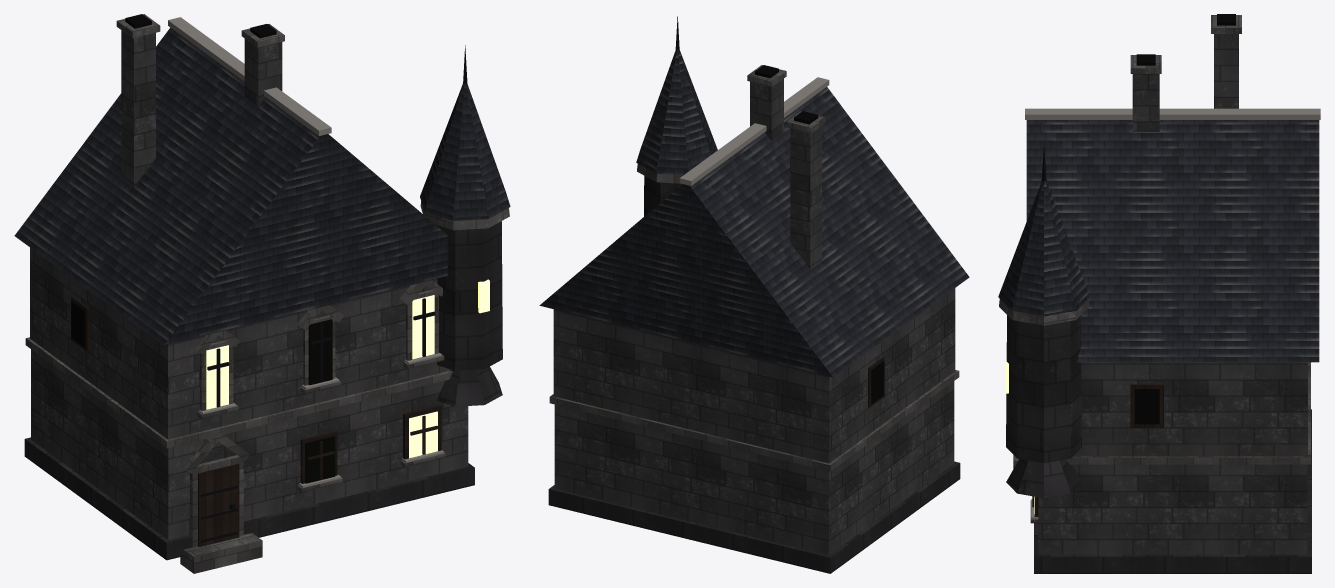
Rendered from CasaB07.gltf.
The picture shows the model from 3 angles, left to right: view 1: azimuth 30°, elevation 25°; view 2: azimuth 150°, elevation 25°; view 3: azimuth 270°, elevation 25°; orthographic projection. The views are drawn at different scales.
Visible parts, largest first — view 1: CasaB07; view 2: CasaB07; view 3: CasaB07.
Boxes of the visible parts, x1,y1,x2,y2 form: CasaB07: [14, 14, 510, 573]; CasaB07: [539, 16, 969, 573]; CasaB07: [998, 14, 1320, 573].
Size of the model in its own units: 11.25 by 14.14 by 9.15.
Materials: 9 (5 with a texture image).
